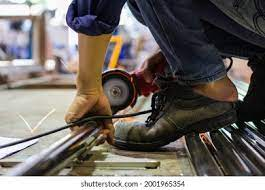Shoes: (118, 110, 218, 152)
